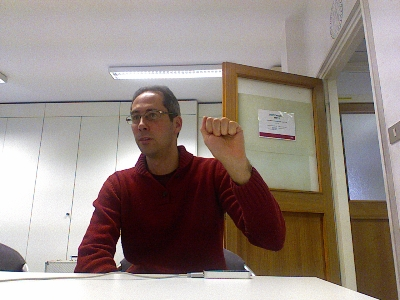石头: (199, 113, 246, 163)
